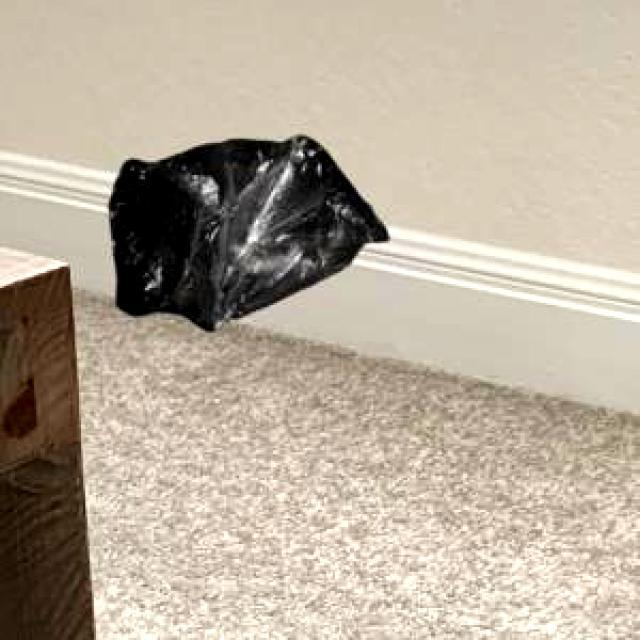Plastic_Bag: (106, 134, 386, 328)
